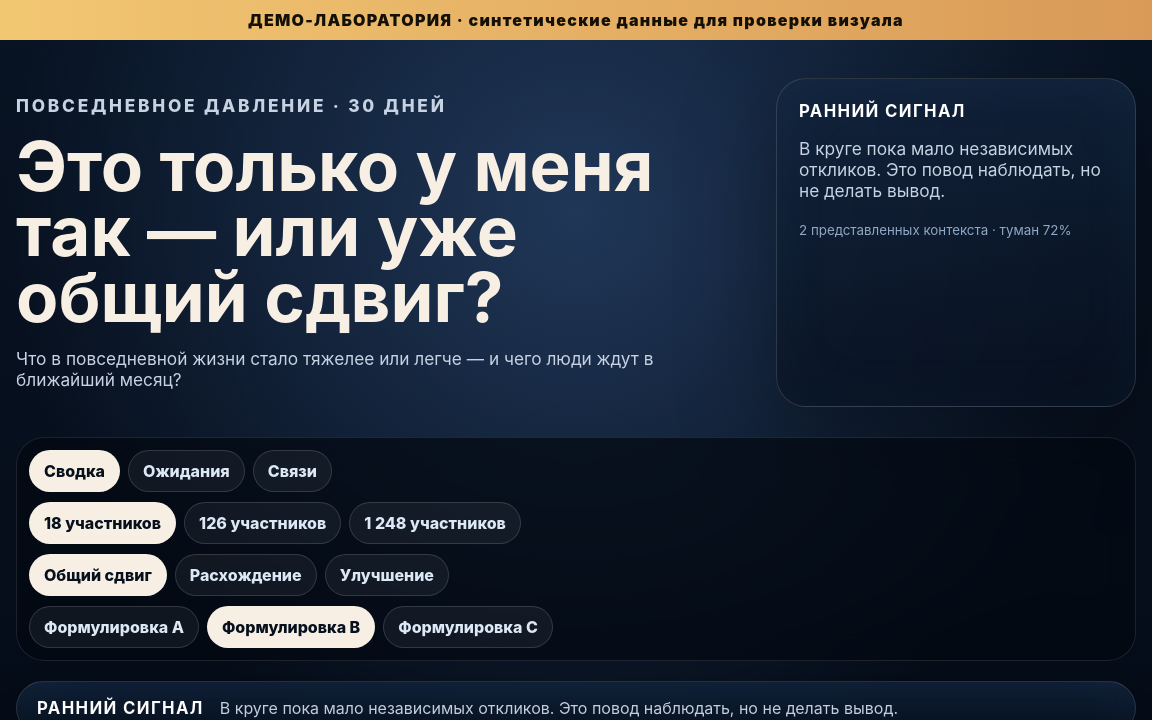
Test case: lab v3 › при переключении масштаба меняется текст статуса
Expected: the text "РАННИЙ СИГНАЛ" in the row of "ПОВСЕДНЕВНОЕ ДАВЛЕНИЕ · 30 ДНЕЙ" is shown, [799,101,966,121]
Click the link "1 248 участников" at (435, 523), box [349,502,521,544]
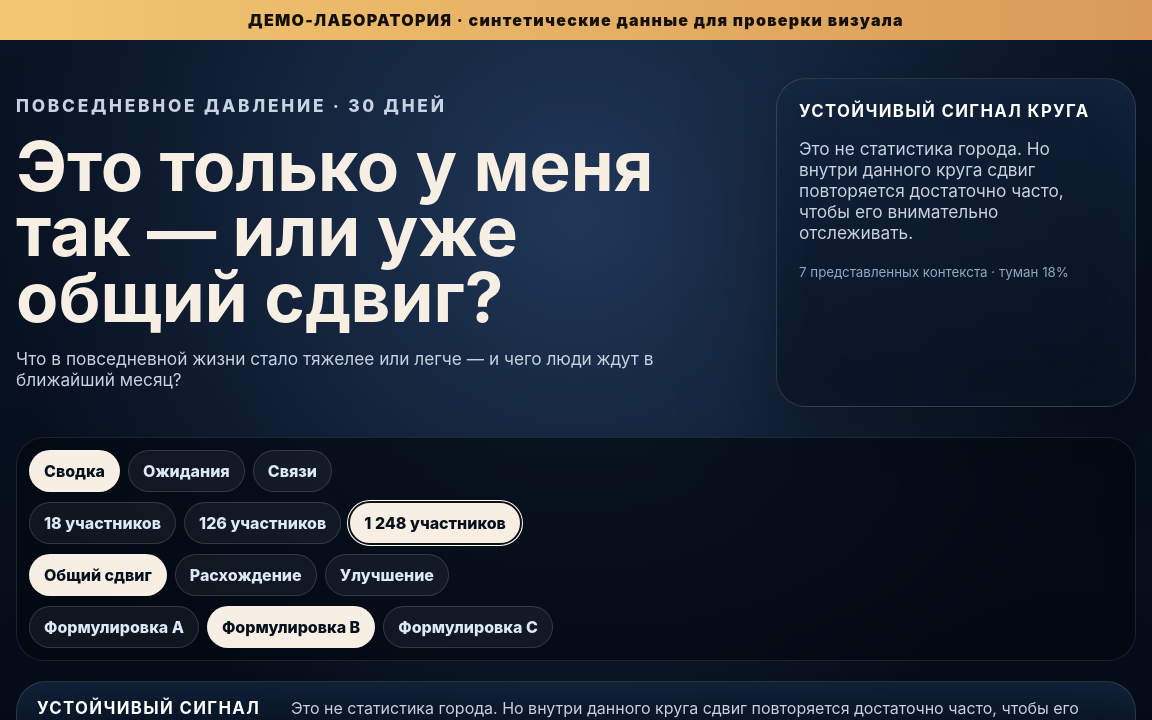
Expected: the text "УСТОЙЧИВЫЙ СИГНАЛ КРУГА" in the row of "ПОВСЕДНЕВНОЕ ДАВЛЕНИЕ · 30 ДНЕЙ" is shown, [799,101,1090,121]
